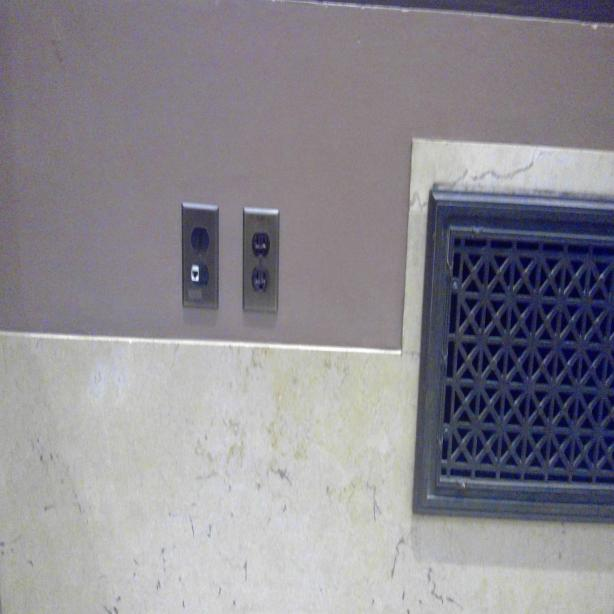typeb: (189, 222, 210, 256), (189, 262, 211, 292), (250, 264, 270, 296), (253, 235, 269, 259)
